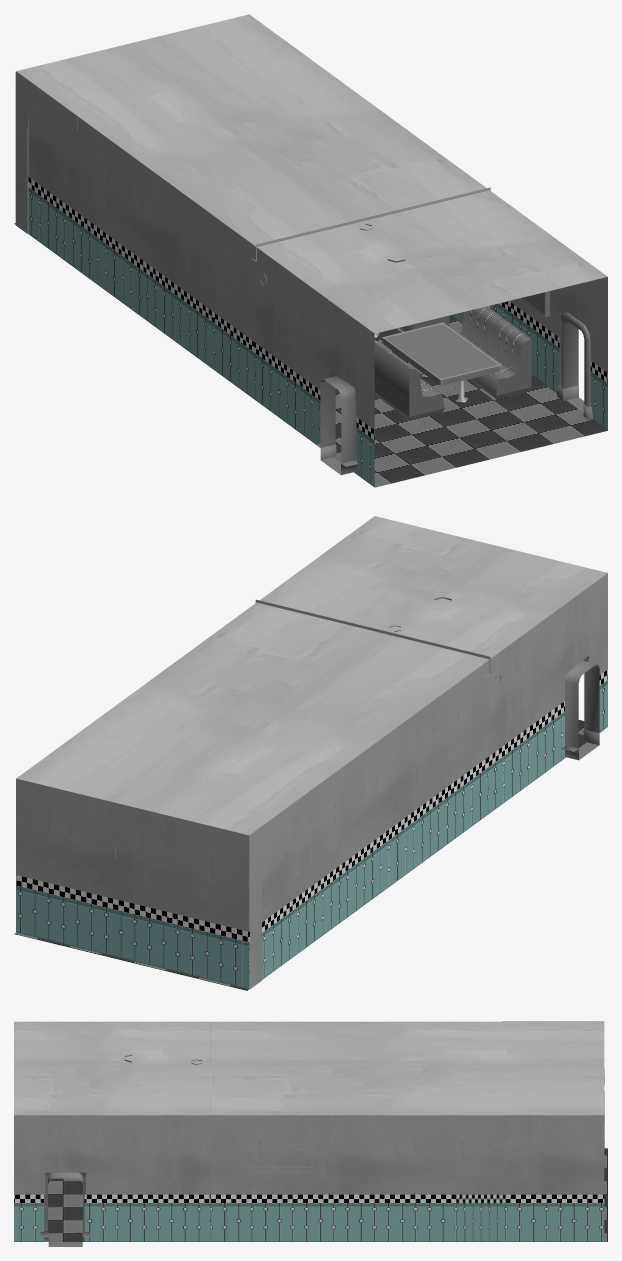
Rendered from MHS_Cafeteria_L3_R1_optimized.fbx.
3 renders of one model, top to bottom at view 1: azimuth 30°, elevation 25°; view 2: azimuth 150°, elevation 25°; view 3: azimuth 270°, elevation 25°, orthographic. The views are drawn at different scales.
Visible parts, largest first — view 1: lightmap1, lightmap-1; view 2: lightmap1, lightmap-1; view 3: lightmap1, lightmap-1.
Boxes of the visible parts, x1=… form: lightmap1: x1=14, y1=14, x2=607, y2=487; lightmap-1: x1=320, y1=320, x2=584, y2=475; lightmap1: x1=14, y1=516, x2=607, y2=990; lightmap-1: x1=564, y1=660, x2=599, y2=760; lightmap1: x1=14, y1=1021, x2=607, y2=1241; lightmap-1: x1=48, y1=1172, x2=82, y2=1246.
Size of the model in its own units: 10.3 by 5.97 by 24.92.
